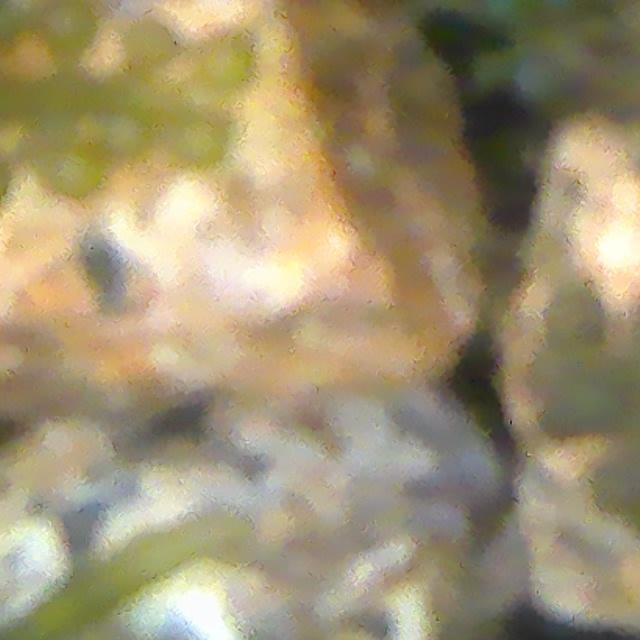SeaGrape: (193, 26, 252, 89), (42, 0, 99, 55), (172, 115, 231, 159), (45, 153, 100, 199)
